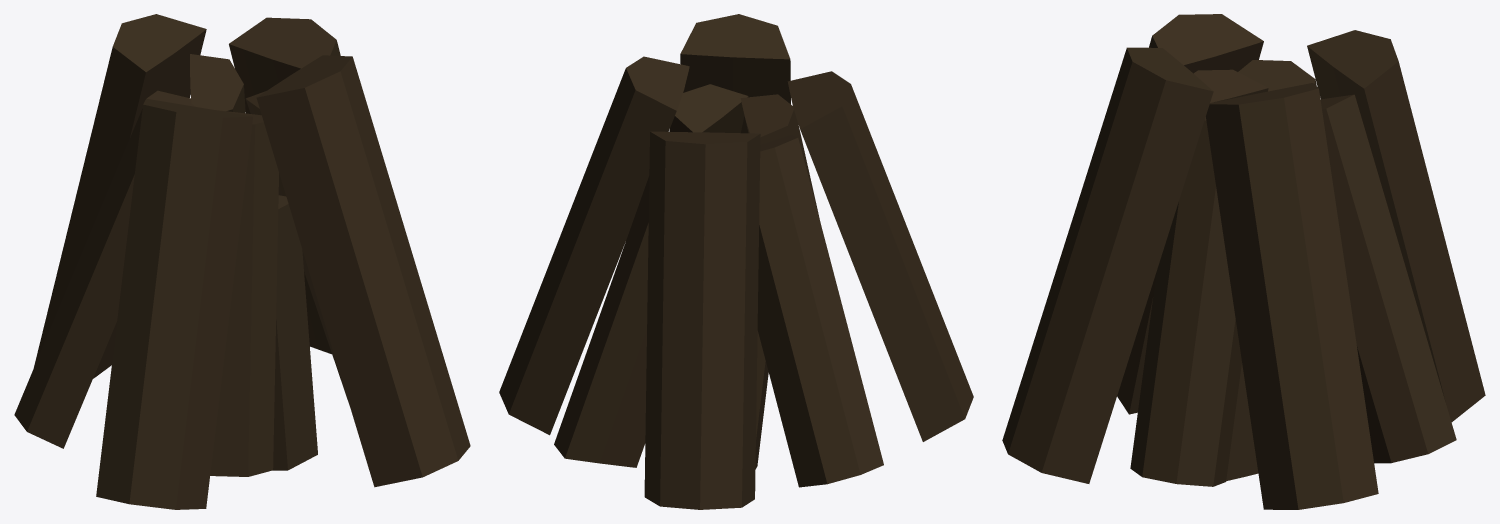
Rendered from BonfireLogs.fbx.
3 renders of one model, left to right at view 1: azimuth 30°, elevation 25°; view 2: azimuth 150°, elevation 25°; view 3: azimuth 270°, elevation 25°, orthographic. The views are drawn at different scales.
Parts seen in each view (by area): view 1: BonfireLogs; view 2: BonfireLogs; view 3: BonfireLogs.
Boxes of the visible parts, x1,y1,x2,y2 form: BonfireLogs: (14,14,470,509); BonfireLogs: (499,14,973,509); BonfireLogs: (1002,14,1485,509).
Size of the model in its own units: 43.41 by 43.82 by 45.22.
